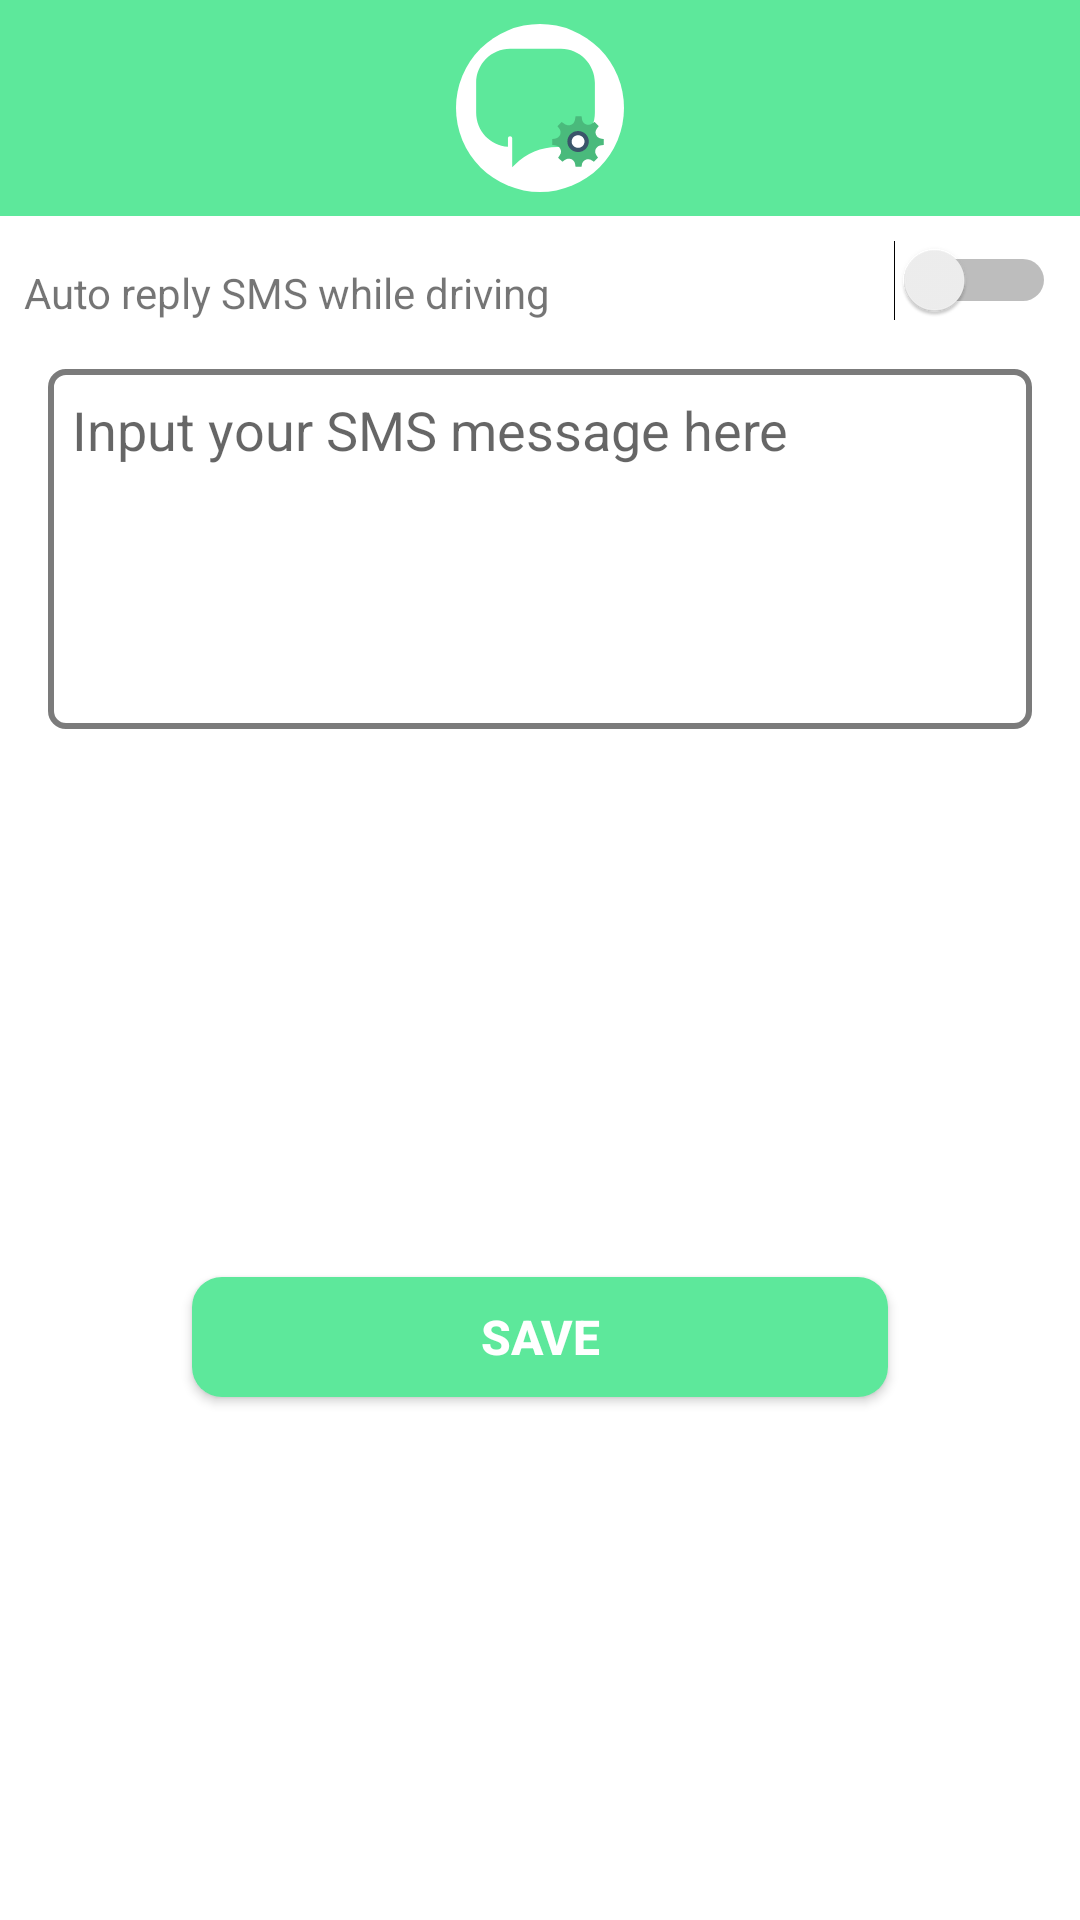

Icon bounding boxes for this 1080x1920 phone screenshot, format (left=x1, top=y1, right=x2, bottom=y2):
message: (left=456, top=24, right=624, bottom=192)
